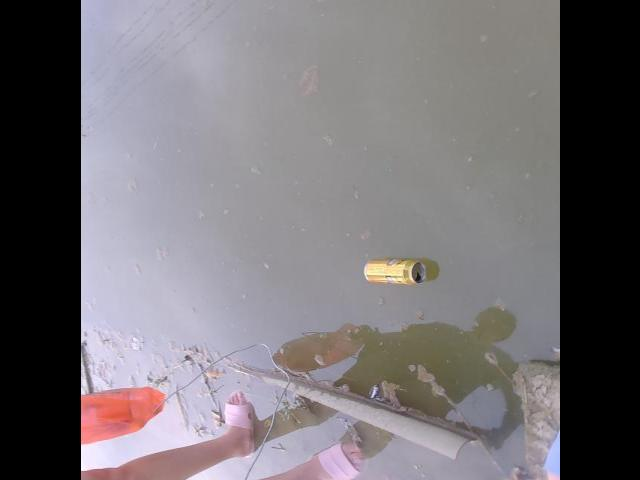Can: (358, 255, 428, 290)
